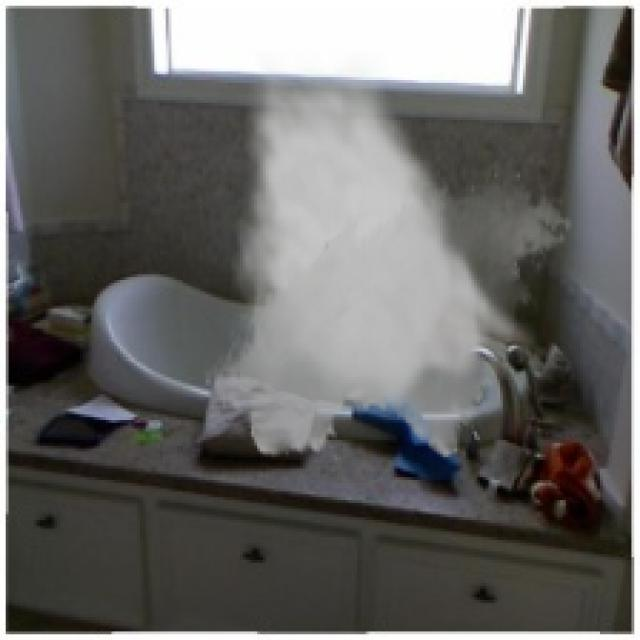Smoke: (202, 51, 574, 468)
